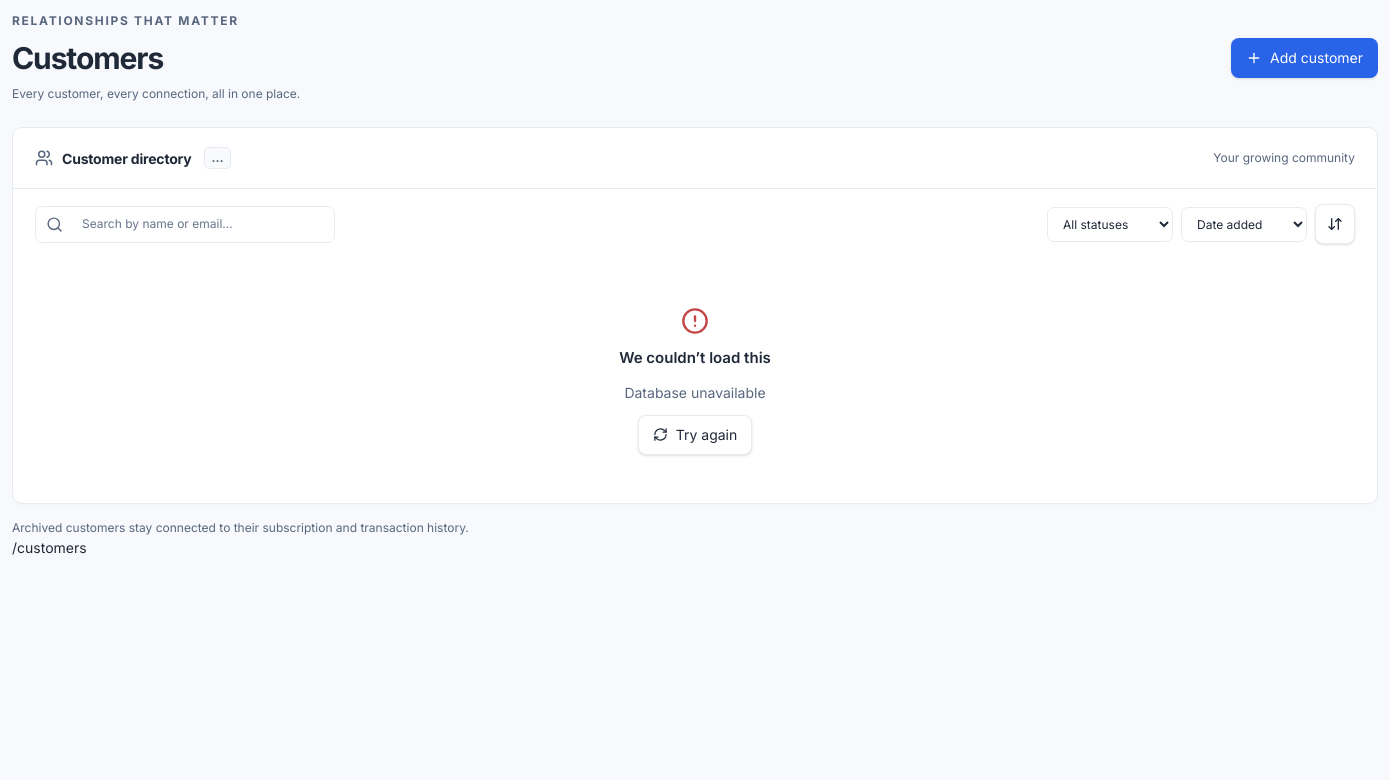
customer pages › recovers from a page request error
Expected: the message shows "Database unavailable", [624,384,766,400]
What coordinates should you click on to do the following:
click the button "Try again"
I would click on:
 (695, 434)
Its box is [638,414,752,454].
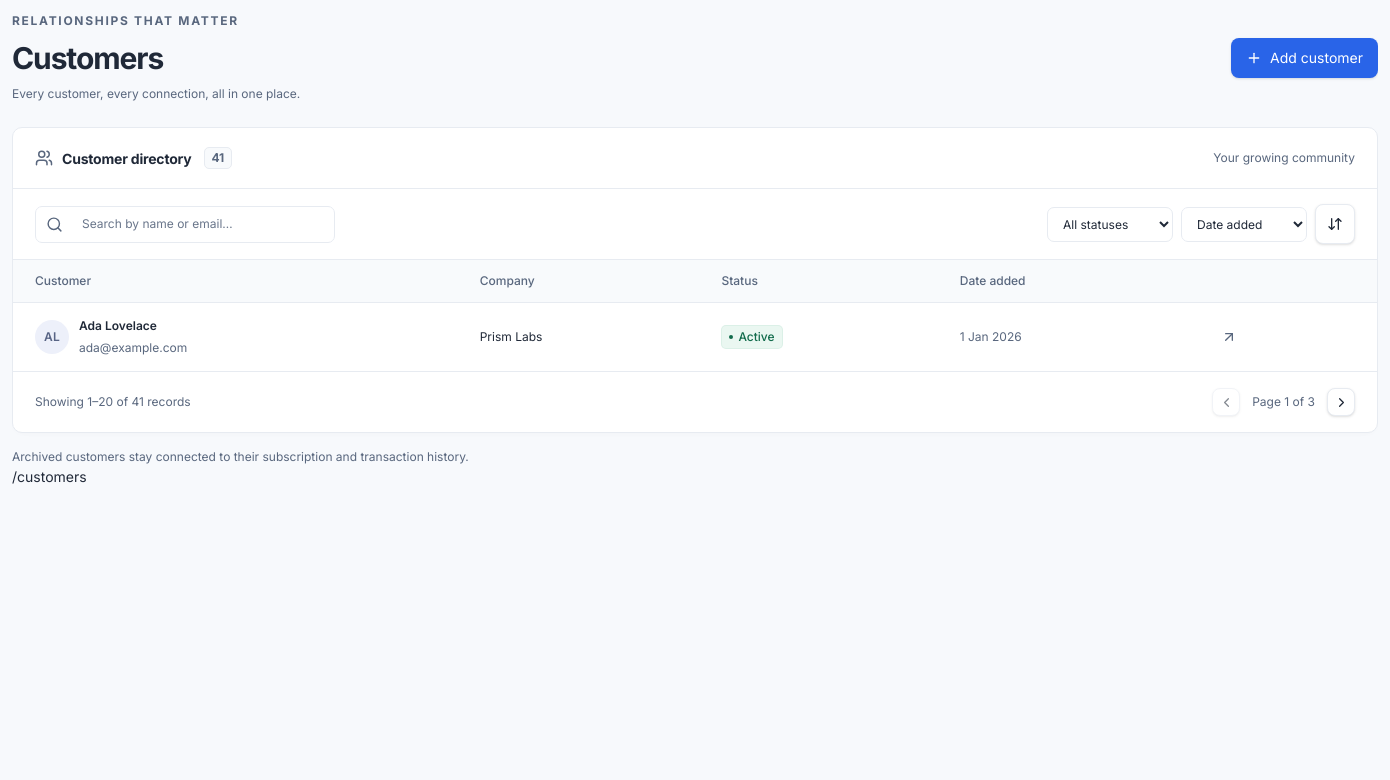
Expected: the link "AL Ada Lovelace ada@example.com" is shown, [35,318,187,355]
